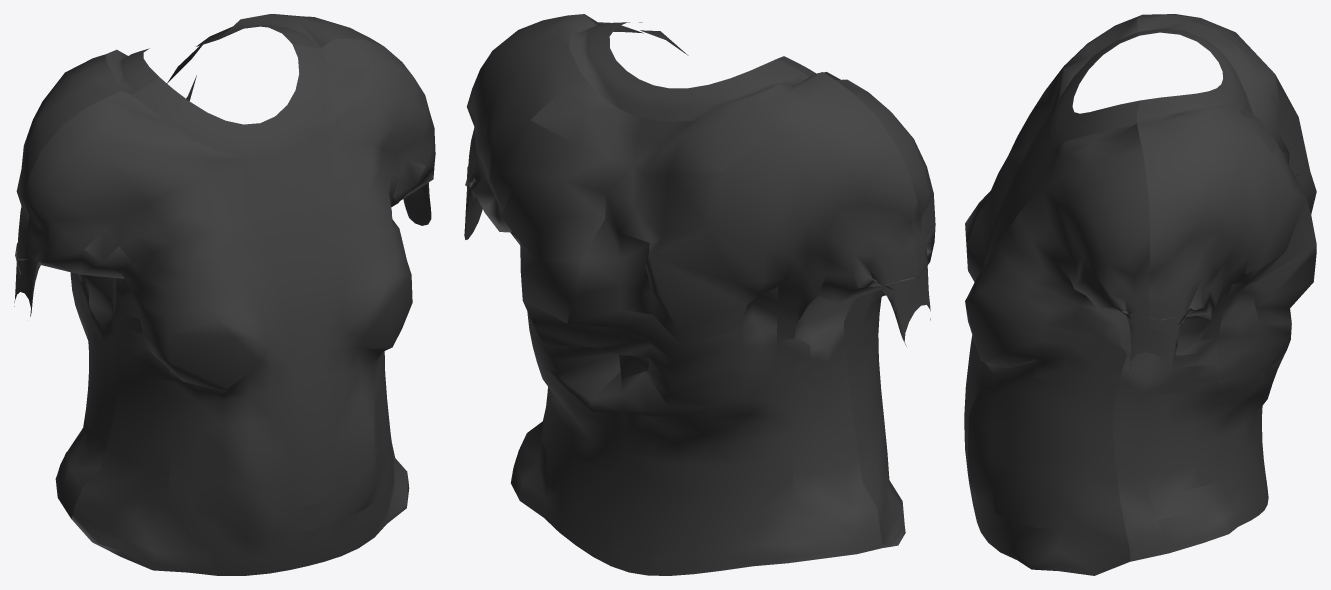
File: cc_tshirt.glb
The picture shows the model from 3 angles, left to right: view 1: azimuth 30°, elevation 25°; view 2: azimuth 150°, elevation 25°; view 3: azimuth 270°, elevation 25°; orthographic projection. The views are drawn at different scales.
Parts seen in each view (by area): view 1: geometry_0; view 2: geometry_0; view 3: geometry_0.
Boxes of the visible parts, box(x1,y1,x2,y2) form: geometry_0: box(14, 14, 435, 575); geometry_0: box(464, 14, 935, 575); geometry_0: box(964, 14, 1316, 575).
Size of the model in its own units: 0.2453 by 0.2624 by 0.1864.
1 material, 1 textured.
